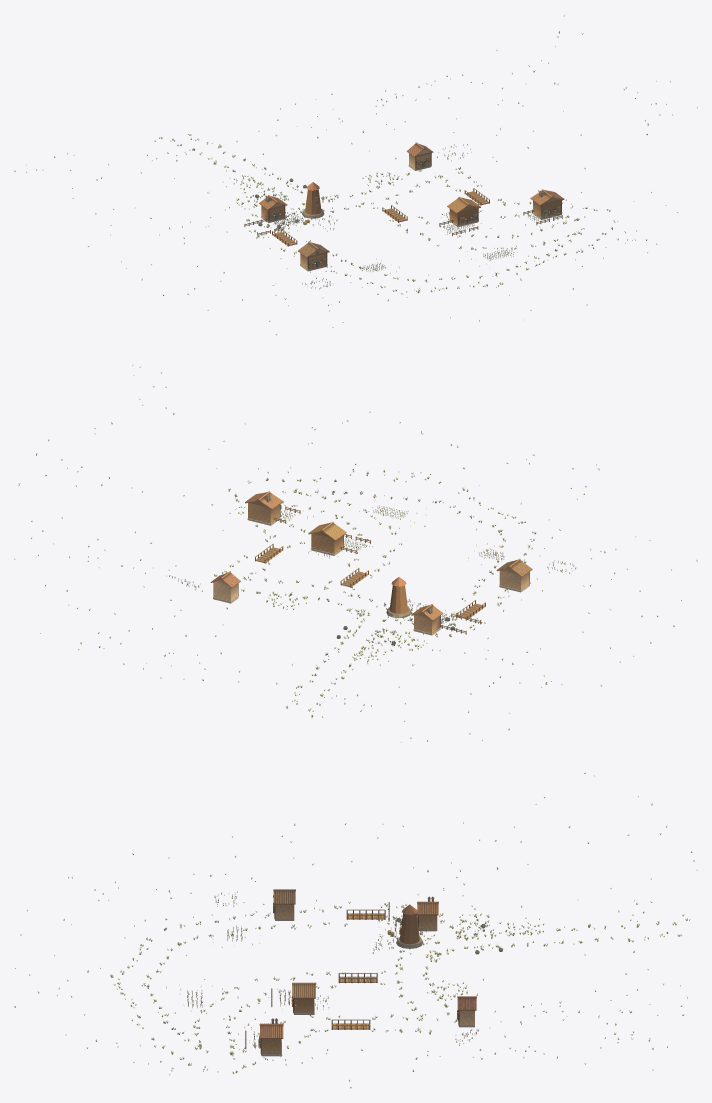
Rendered from district_wind.glb.
3 renders of one model, top to bottom at view 1: azimuth 30°, elevation 25°; view 2: azimuth 150°, elevation 25°; view 3: azimuth 270°, elevation 25°, orthographic. The views are drawn at different scales.
Parts seen in each view (by area): view 1: wind · -1,0, wind · 0,-1, wind · 0,0, wind · -1,-1, wind · 1,-1; view 2: wind · -1,0, wind · 0,-1, wind · 0,0, wind · -1,-1, wind · 1,-1; view 3: wind · -1,0, wind · 0,-1, wind · 0,0, wind · -1,-1, wind · 1,-1.
Boxes of the visible parts, x1=… form: wind · -1,0: x1=236, y1=177, x2=387, y2=242; wind · 0,-1: x1=383, y1=188, x2=553, y2=251; wind · 0,0: x1=362, y1=142, x2=482, y2=215; wind · -1,-1: x1=281, y1=213, x2=407, y2=282; wind · 1,-1: x1=529, y1=92, x2=660, y2=229; wind · -1,0: x1=328, y1=577, x2=484, y2=654; wind · 0,-1: x1=256, y1=499, x2=410, y2=583; wind · 0,0: x1=181, y1=554, x2=357, y2=609; wind · -1,-1: x1=360, y1=543, x2=540, y2=611; wind · 1,-1: x1=139, y1=387, x2=292, y2=530; wind · -1,0: x1=347, y1=896, x2=515, y2=974; wind · 0,-1: x1=206, y1=972, x2=376, y2=1041; wind · 0,0: x1=362, y1=972, x2=495, y2=1039; wind · -1,-1: x1=208, y1=889, x2=362, y2=975; wind · 1,-1: x1=206, y1=1001, x2=362, y2=1073.
Size of the model in its own units: 112 by 23.54 by 105.
Materials: 4 (3 with a texture image).
